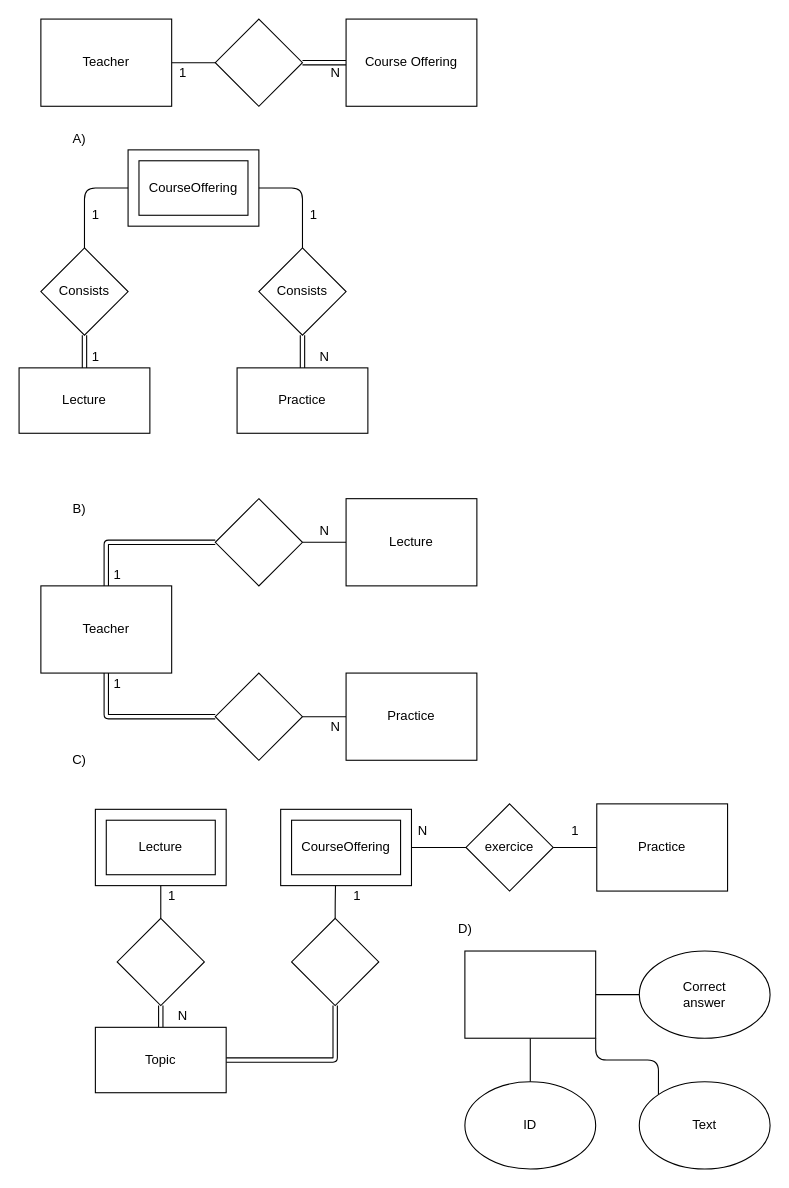
Image size: 789x1188. Some labels were removed from this diagram. The shapes that lost their labels are listed below. From the top down, each one's centre as x and y in pixels, then its label:
At point (258, 62): "Today".
At point (258, 542): "Gives".
At point (258, 716): "Conducts".
At point (160, 961): "Gives topics".
At point (334, 961): "Gives topic".
At point (530, 994): "Tasks".
